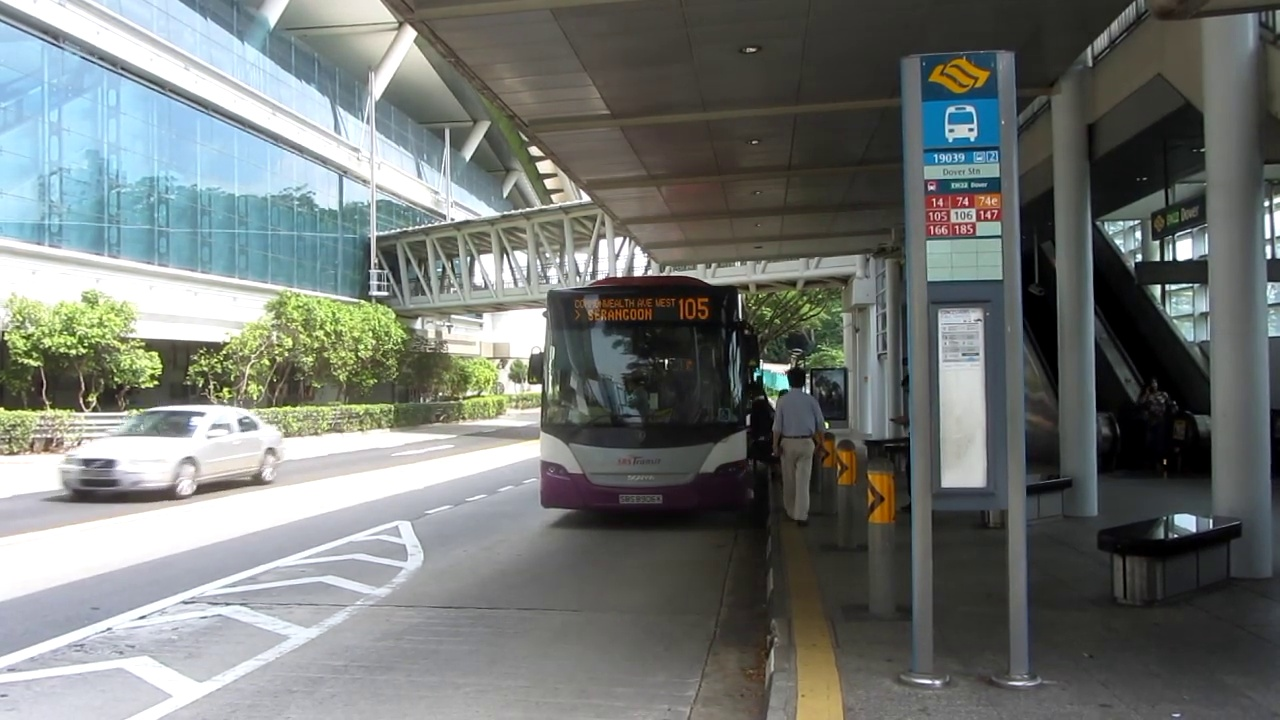bus panel: (571, 295, 714, 323)
